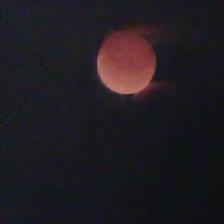infertile: (95, 26, 158, 97)
